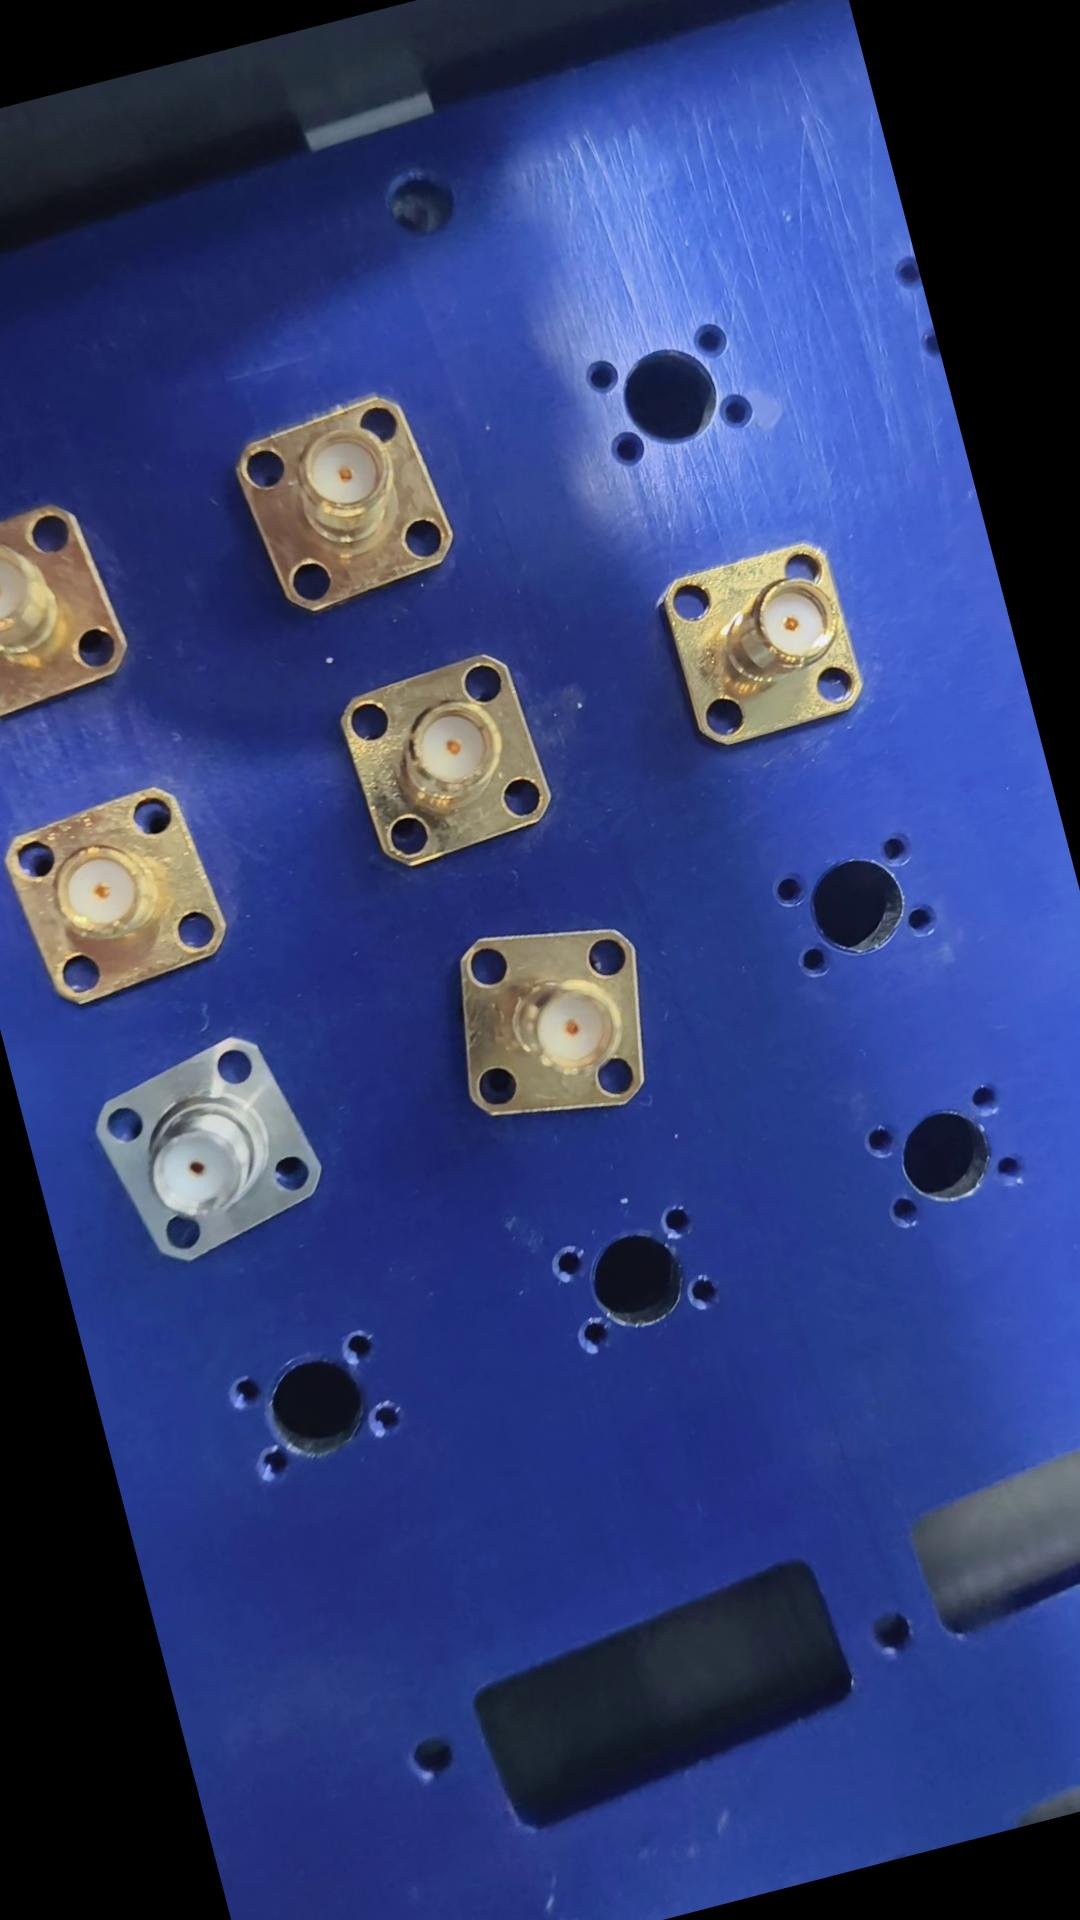SMA: (83, 1011, 357, 1283), (3, 769, 251, 1025), (433, 894, 684, 1145), (327, 640, 582, 887), (222, 378, 477, 620), (651, 527, 885, 760)
